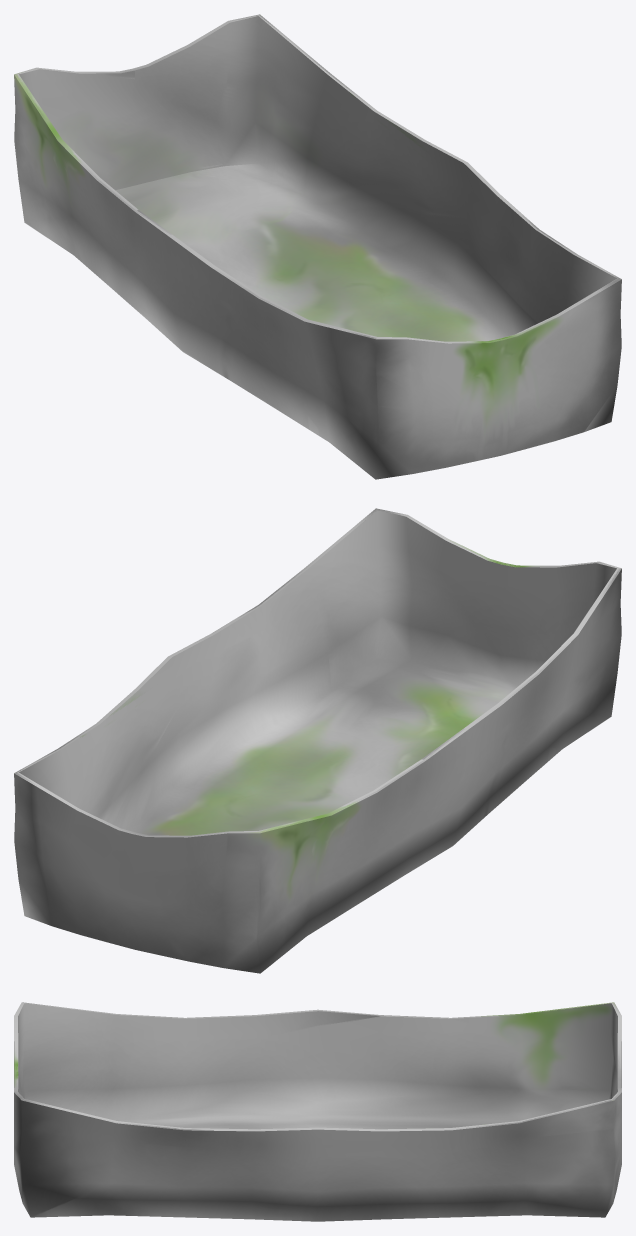
File: Paper_Plate_Emptyfbx.fbx
The picture shows the model from 3 angles, top to bottom: view 1: azimuth 30°, elevation 25°; view 2: azimuth 150°, elevation 25°; view 3: azimuth 270°, elevation 25°; orthographic projection. The views are drawn at different scales.
Parts seen in each view (by area): view 1: Cube; view 2: Cube; view 3: Cube.
Boxes of the visible parts, left/top/right/bottom form: Cube: left=14, top=14, right=621, bottom=479; Cube: left=14, top=508, right=621, bottom=973; Cube: left=14, top=1002, right=621, bottom=1221.
Size of the model in its own units: 7 by 3.28 by 15.
Materials: 1 (1 with a texture image).
